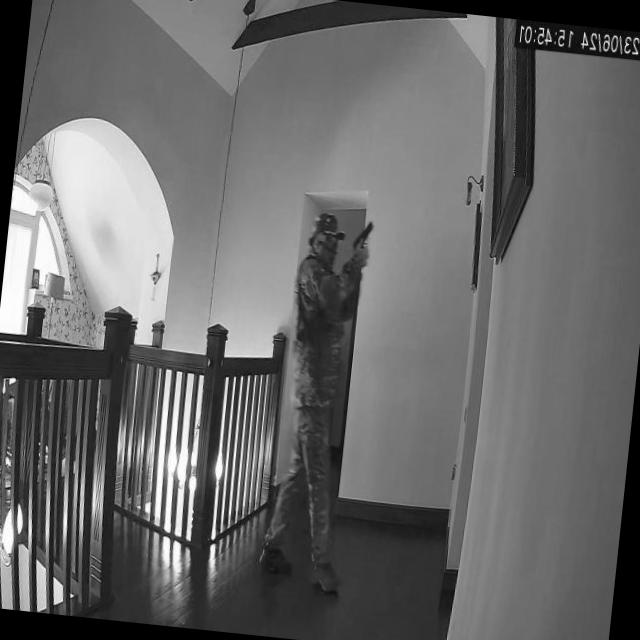gun: (350, 217, 376, 258)
person with a gun: (248, 207, 368, 592)
